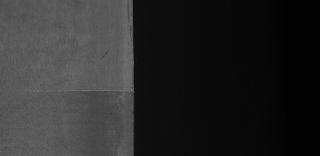welding line: (0, 84, 142, 96)
